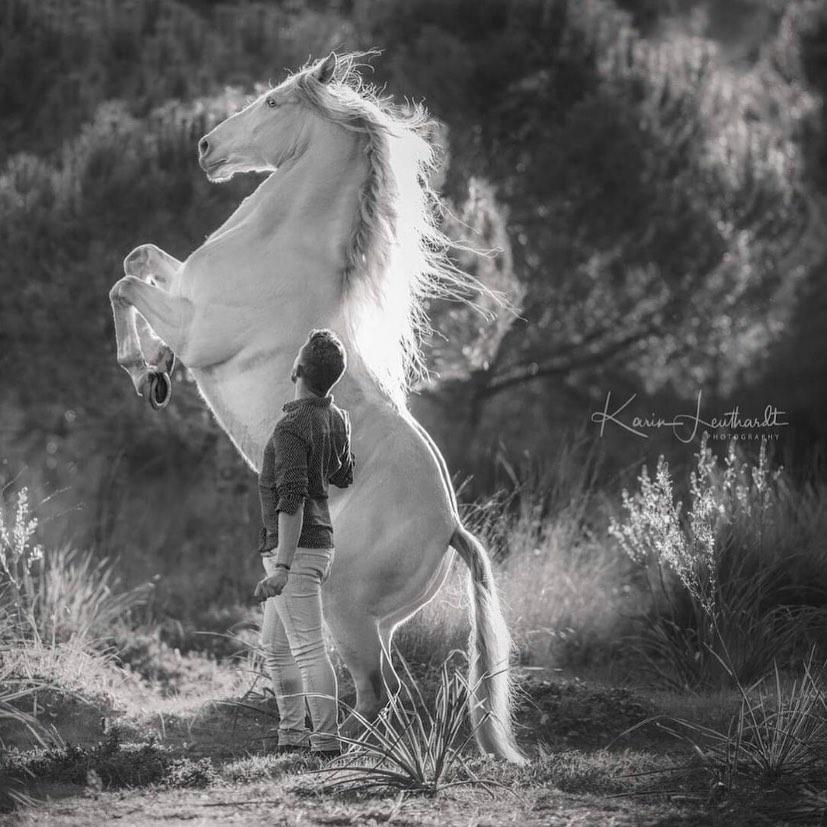horse: (108, 45, 531, 768)
